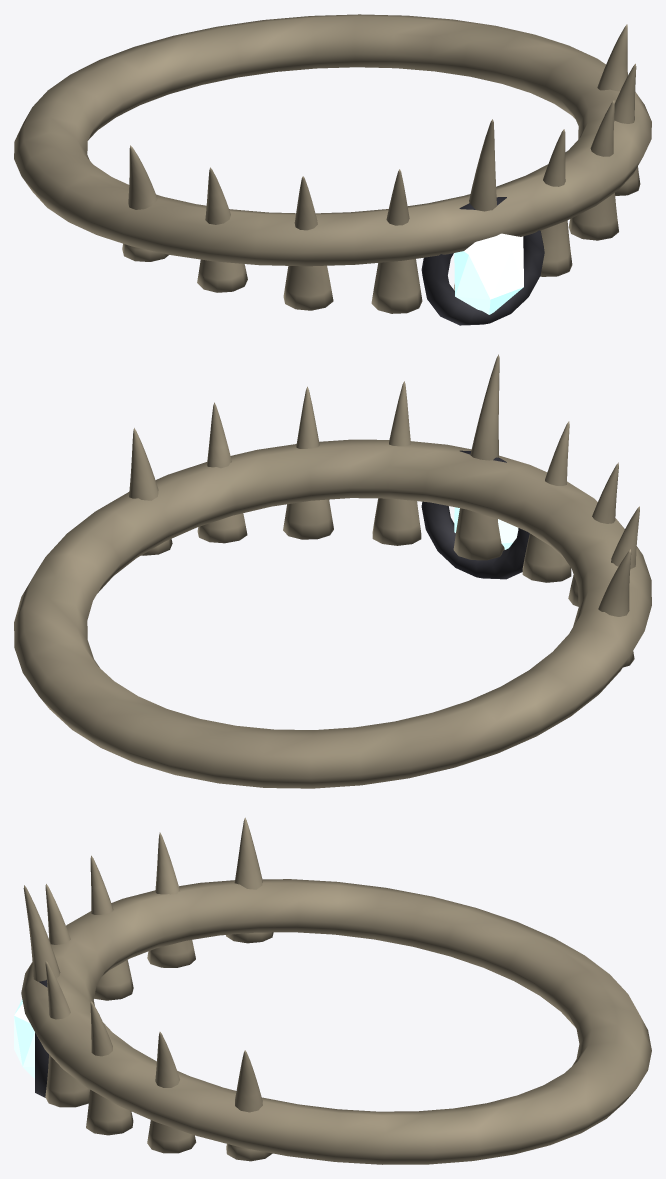
File: storm_crown.glb
3 renders of one model, top to bottom at view 1: azimuth 30°, elevation 25°; view 2: azimuth 150°, elevation 25°; view 3: azimuth 270°, elevation 25°, orthographic. The views are drawn at different scales.
Visible parts, largest first — view 1: storm_crown__Head, storm_gem__Head; view 2: storm_crown__Head; view 3: storm_crown__Head, storm_gem__Head.
Boxes of the visible parts, left/top/right/bottom form: storm_crown__Head: left=14, top=14, right=651, bottom=325; storm_gem__Head: left=454, top=233, right=523, bottom=314; storm_crown__Head: left=14, top=354, right=651, bottom=788; storm_crown__Head: left=21, top=817, right=651, bottom=1164; storm_gem__Head: left=14, top=999, right=34, bottom=1078.
Size of the model in its own units: 0.1582 by 0.0594 by 0.166.
